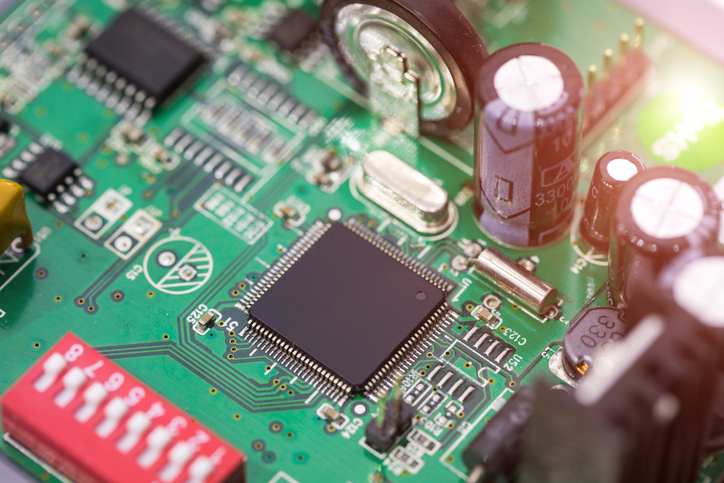capacitor: (463, 35, 591, 273)
